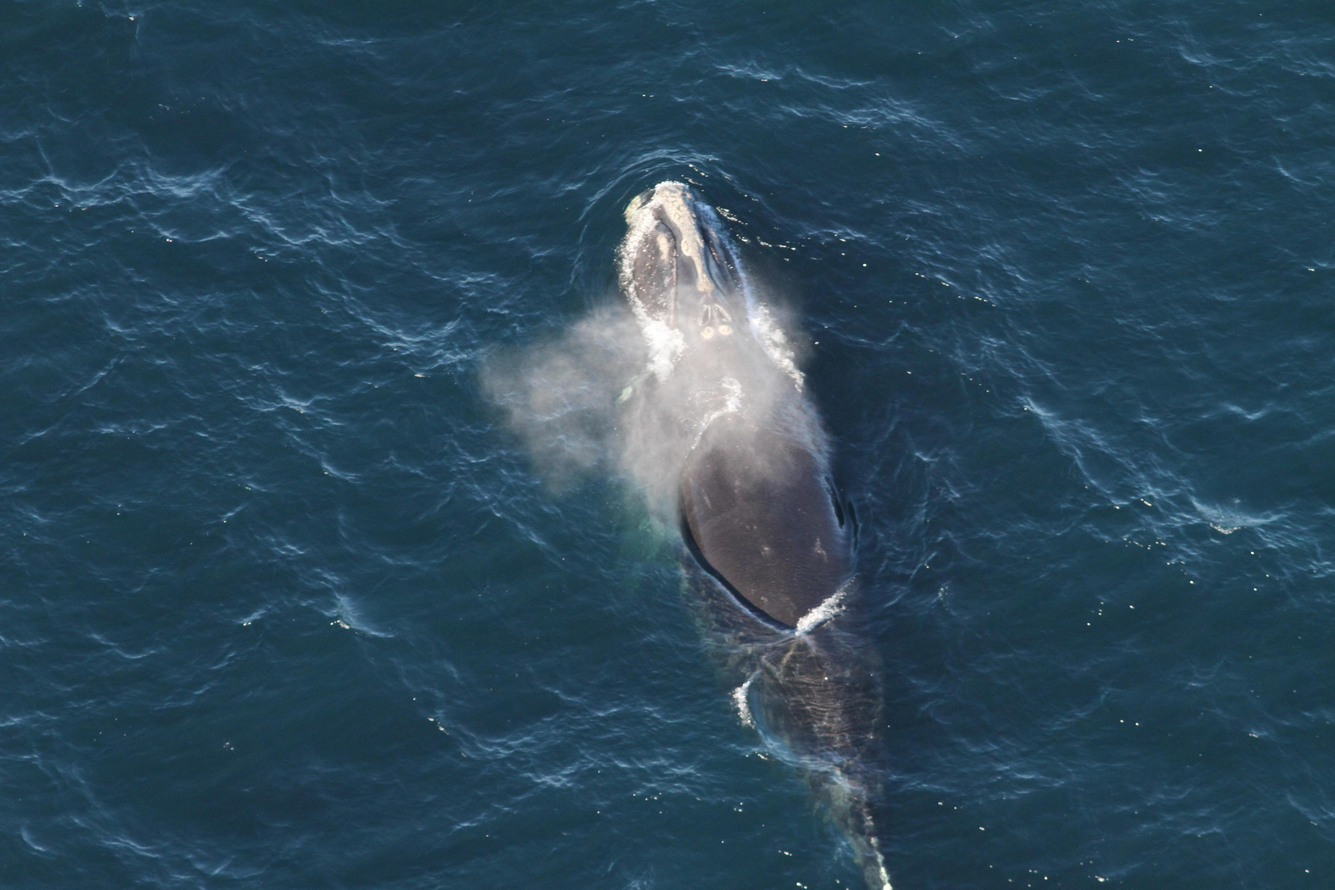whale: (600, 171, 923, 890)
